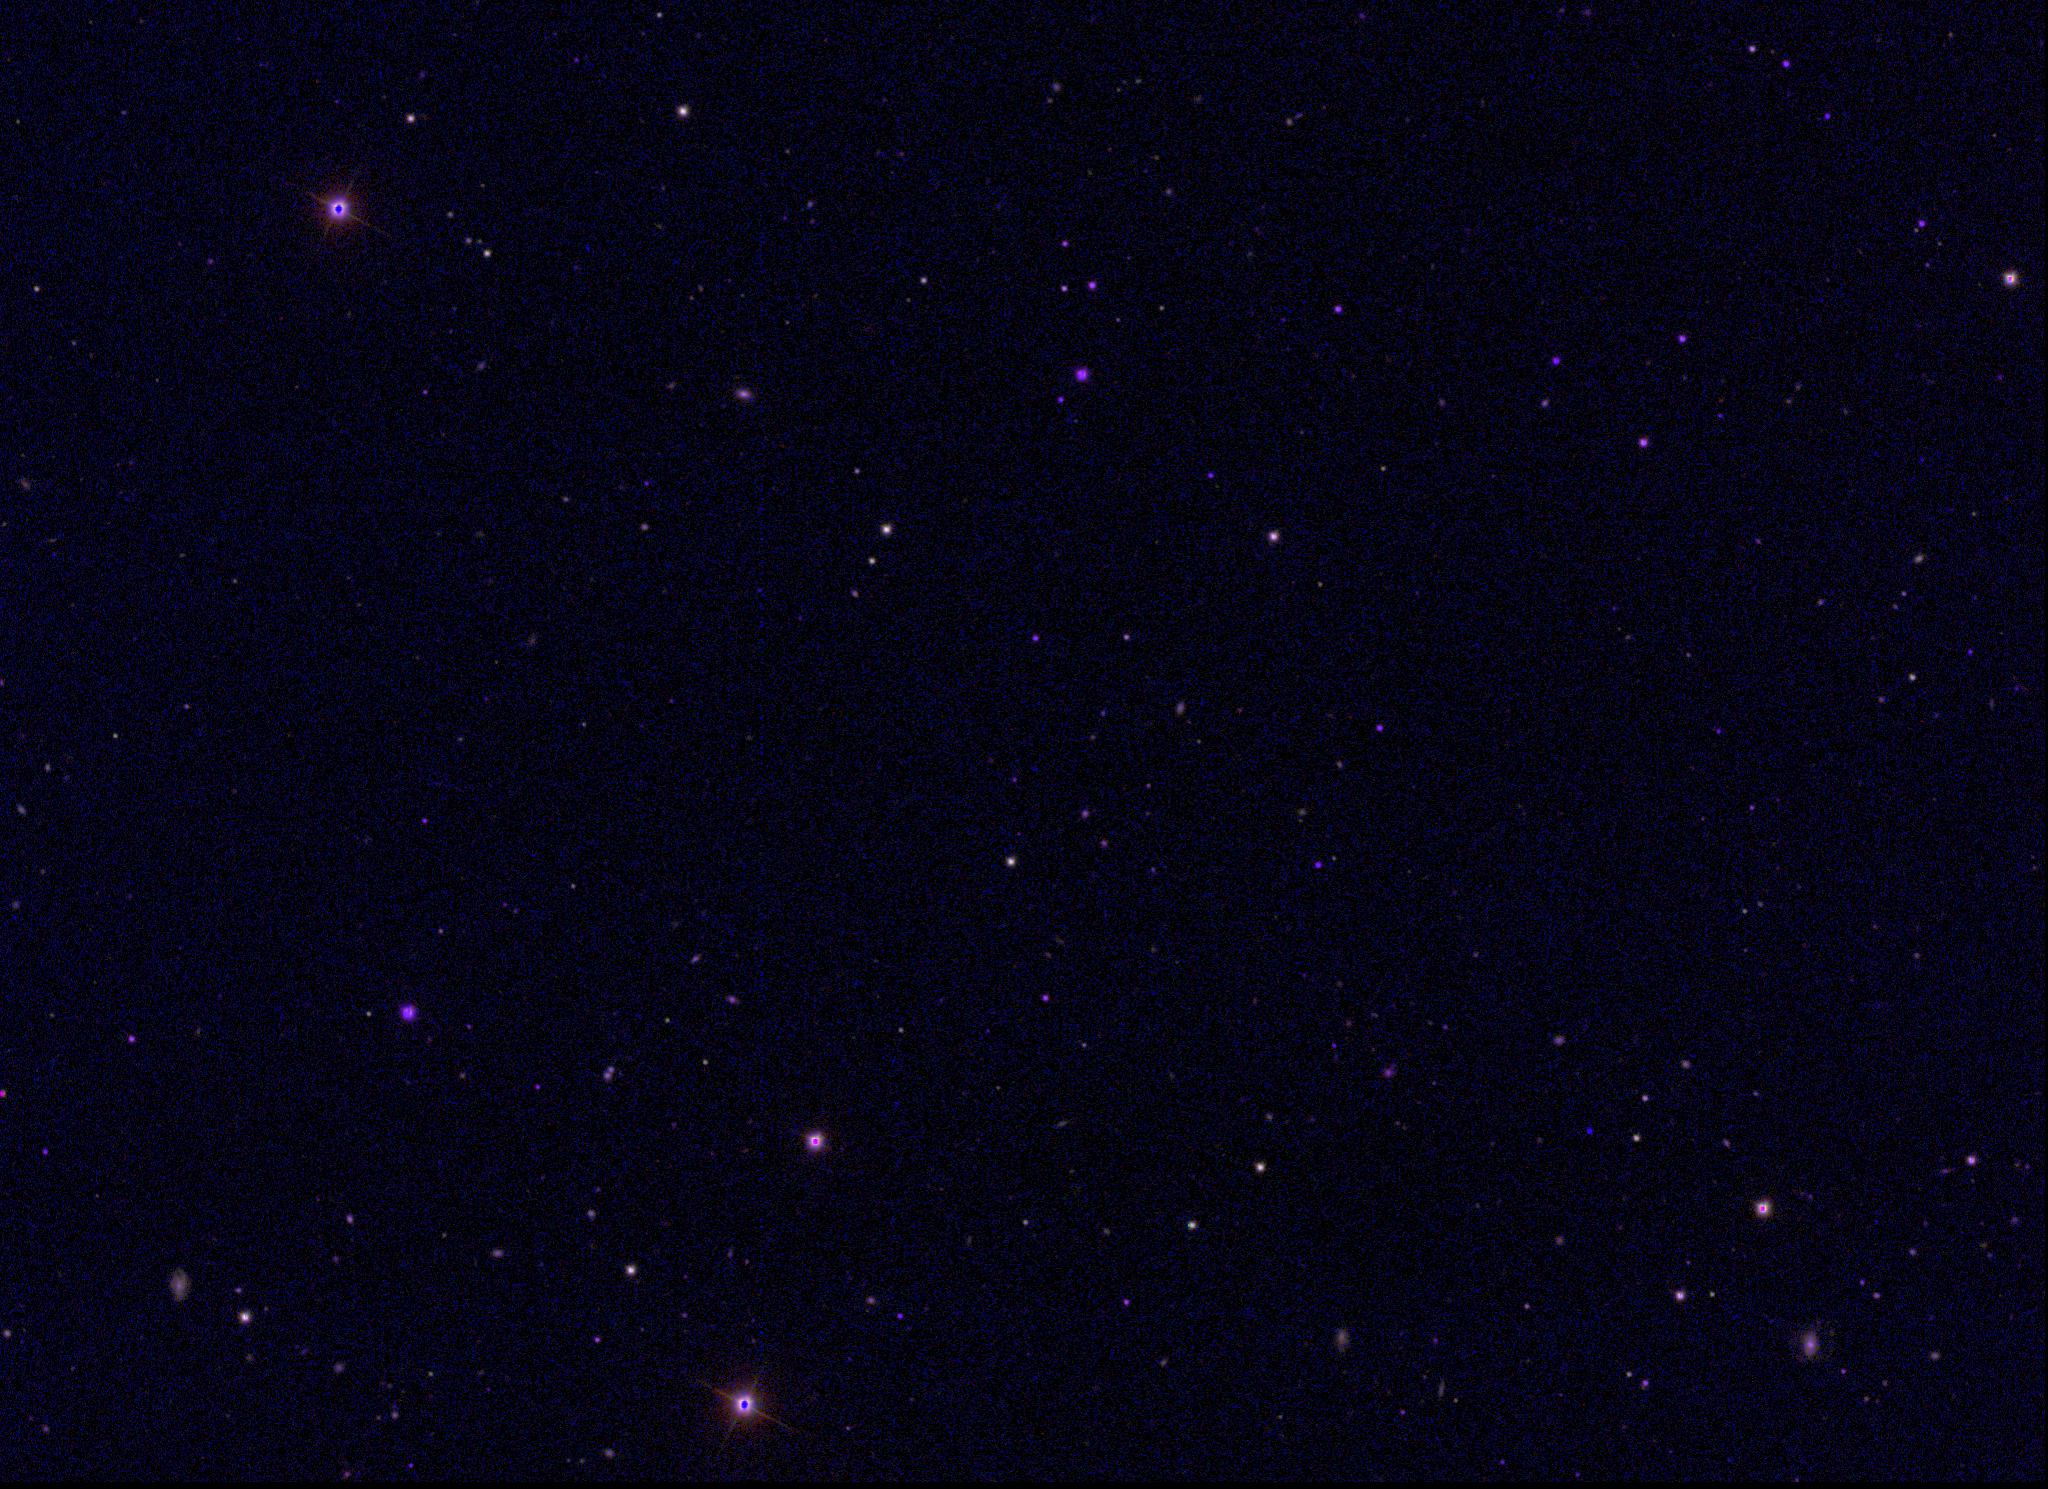L: (1582, 1125, 1596, 1139)
